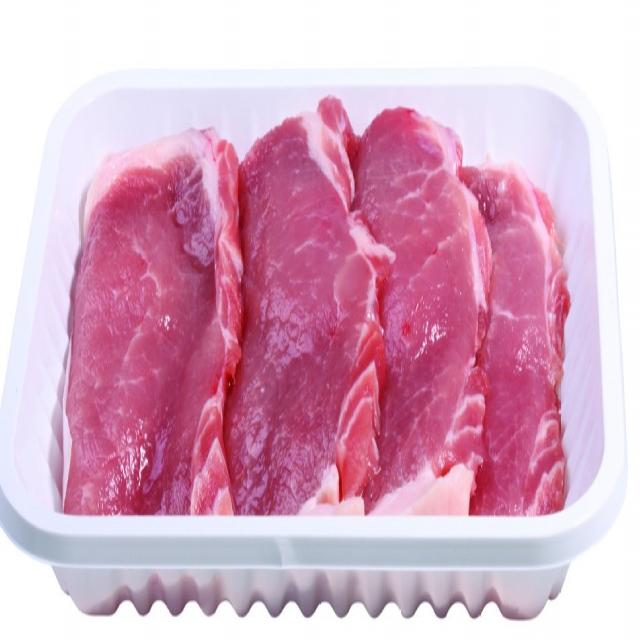pork: (67, 117, 235, 550), (244, 102, 376, 555), (368, 93, 482, 541), (465, 113, 566, 544)
